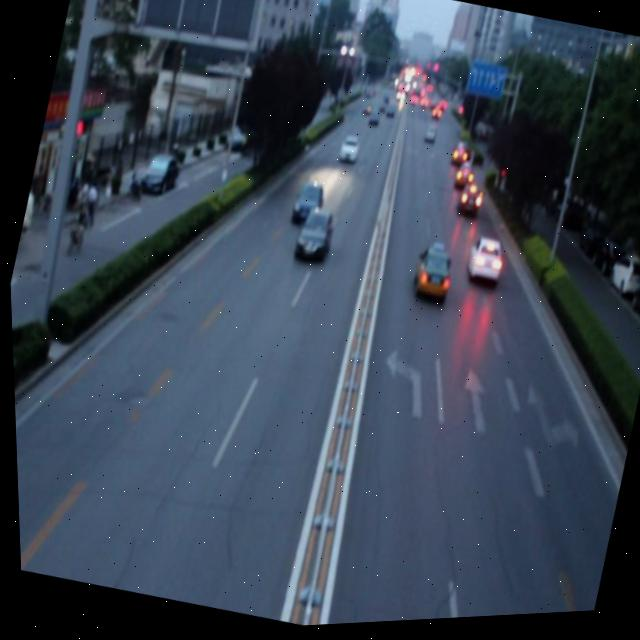car: (406, 245, 455, 307), (459, 234, 506, 293), (290, 209, 335, 267), (287, 181, 326, 229), (451, 181, 484, 224)
